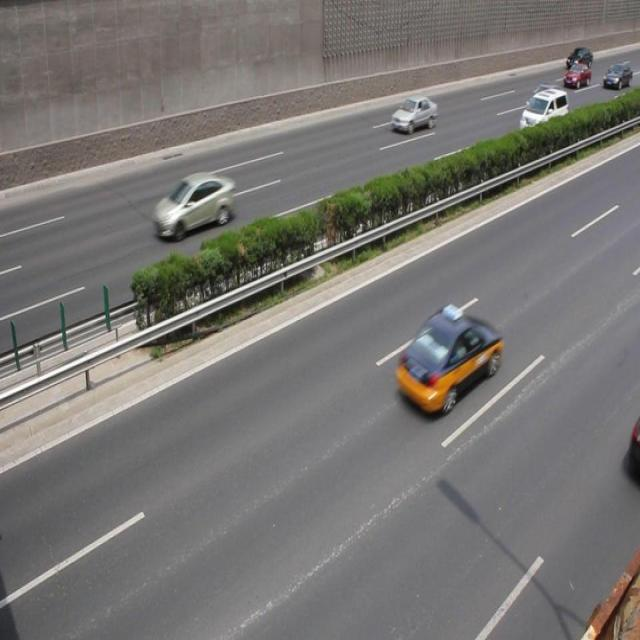car: (392, 308, 499, 417), (153, 172, 235, 242), (518, 87, 568, 145), (389, 95, 436, 133), (522, 84, 562, 112), (563, 62, 589, 90), (565, 46, 591, 72)
